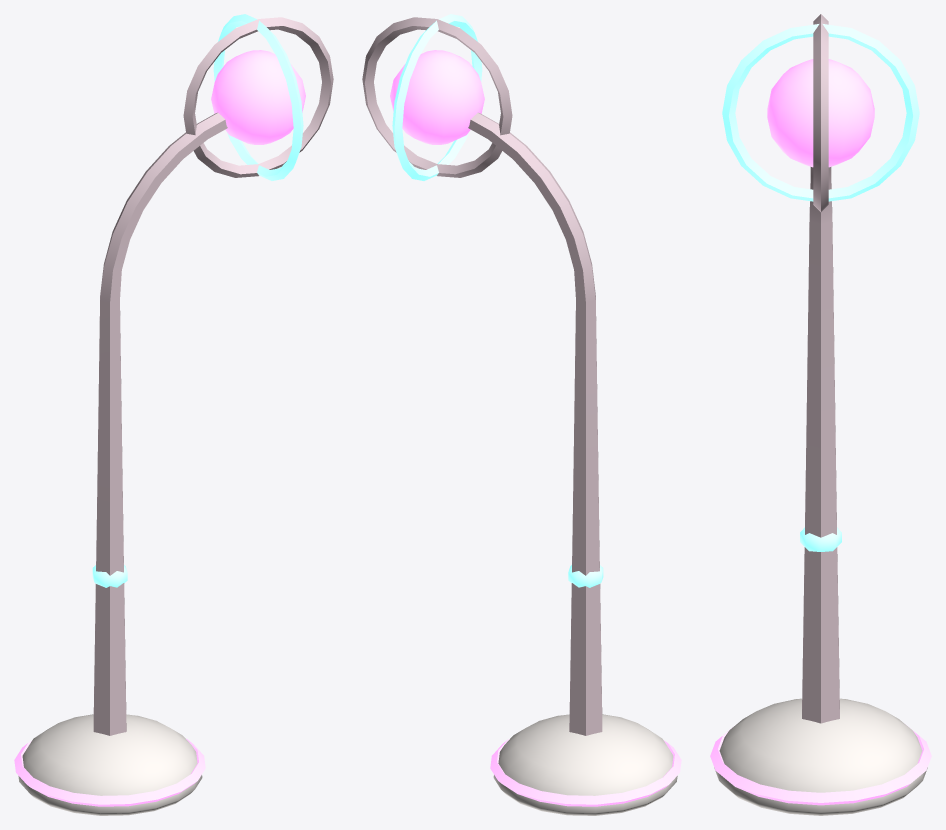
The model's file is lamp_futuristic.glb.
3 renders of one model, left to right at view 1: azimuth 30°, elevation 25°; view 2: azimuth 150°, elevation 25°; view 3: azimuth 270°, elevation 25°, orthographic. The views are drawn at different scales.
Visible parts, largest first — view 1: lamp_futuristic; view 2: lamp_futuristic; view 3: lamp_futuristic.
Boxes of the visible parts, bbox=[...] form: lamp_futuristic: bbox=[14, 14, 333, 815]; lamp_futuristic: bbox=[362, 14, 681, 815]; lamp_futuristic: bbox=[710, 14, 931, 815].
Bounding box in the file's own units: 1.86 × 4.2 × 1.01.
